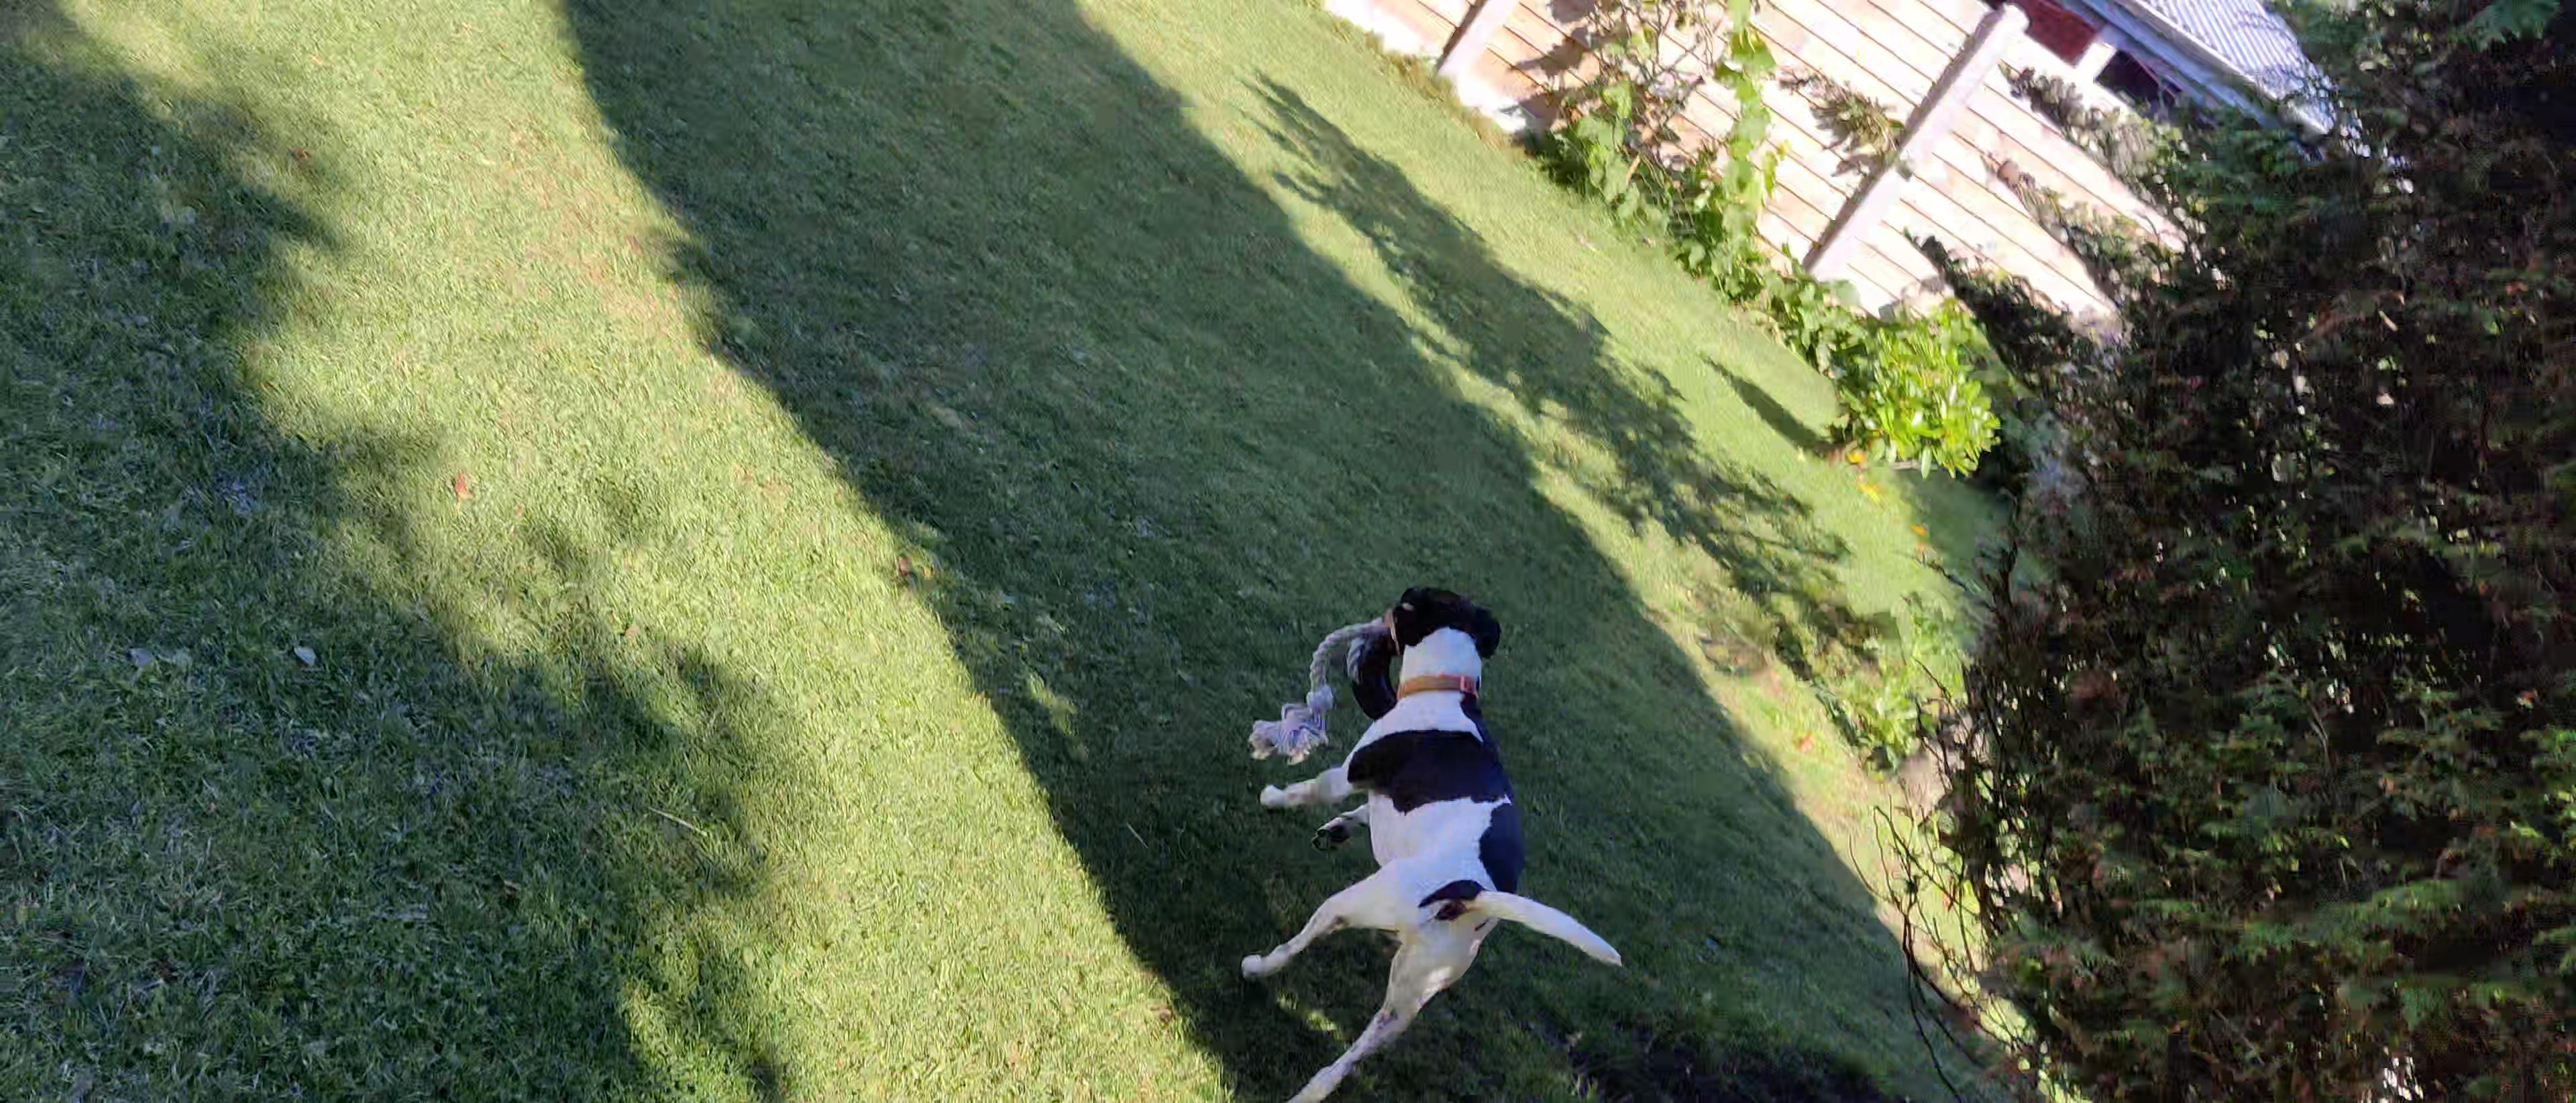Dog: (1235, 574, 1626, 1103)
